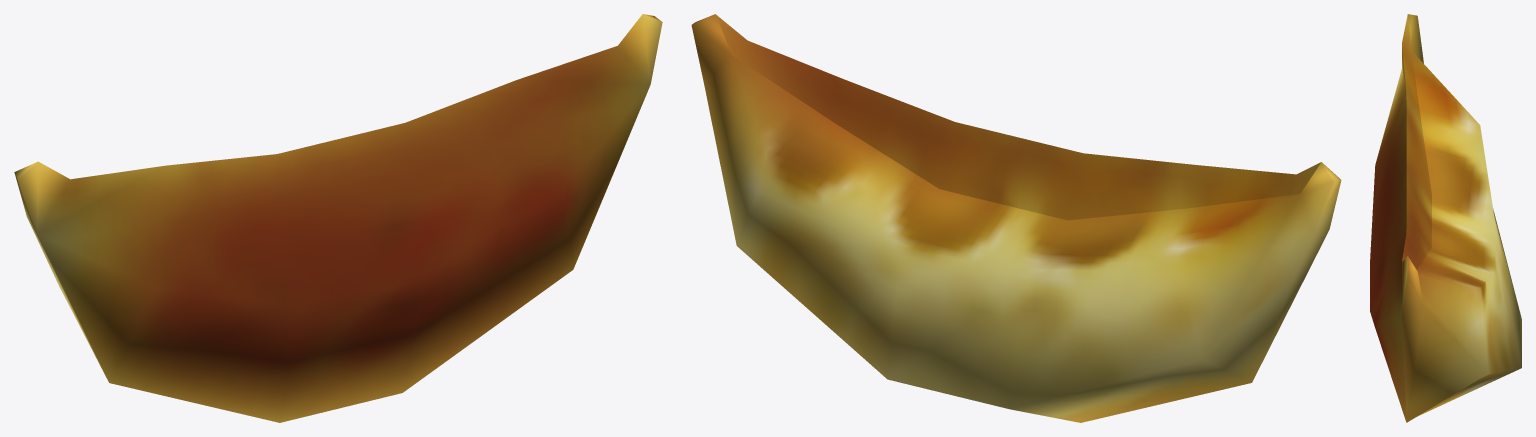
File: Gyoza.fbx
3 views of the same model, side by side, from view 1: azimuth 30°, elevation 25°; view 2: azimuth 150°, elevation 25°; view 3: azimuth 270°, elevation 25° (orthographic). The views are drawn at different scales.
Parts seen in each view (by area): view 1: Gyoza; view 2: Gyoza; view 3: Gyoza.
Part boxes in pixels (box(x1,y1,x2,y2)): Gyoza: box(14, 14, 662, 422); Gyoza: box(691, 14, 1341, 422); Gyoza: box(1370, 14, 1521, 422).
Bounding box in the file's own units: 194 × 92.05 × 48.34.
